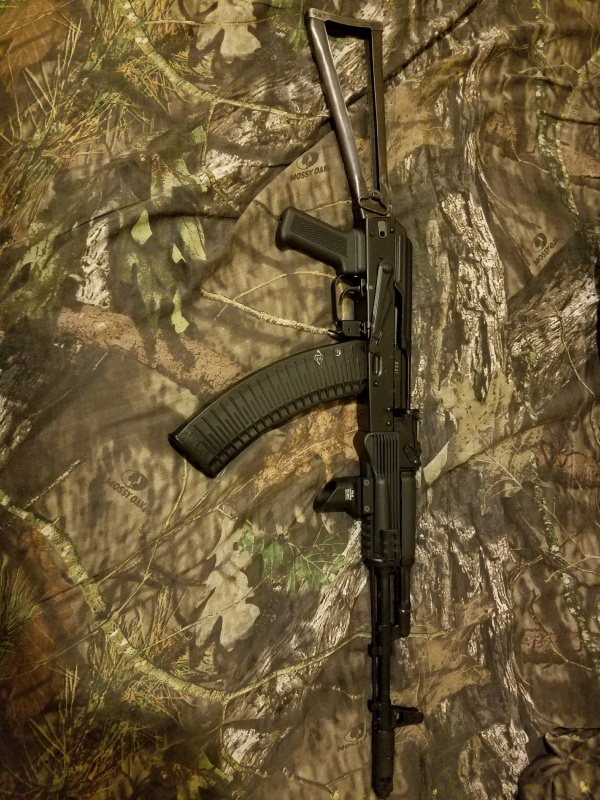ak47: (177, 7, 423, 800)
